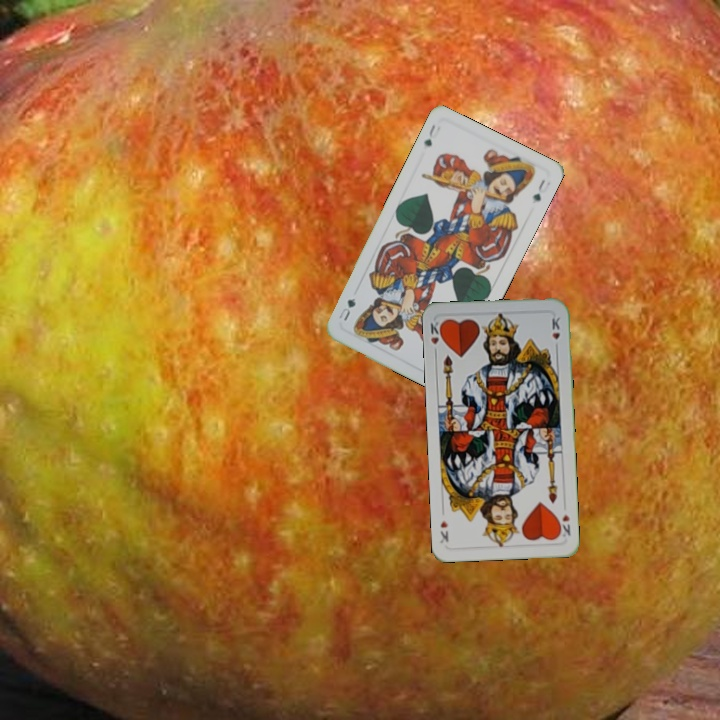GU: (420, 120, 438, 149)
HK: (427, 317, 446, 358), (554, 510, 573, 539)
